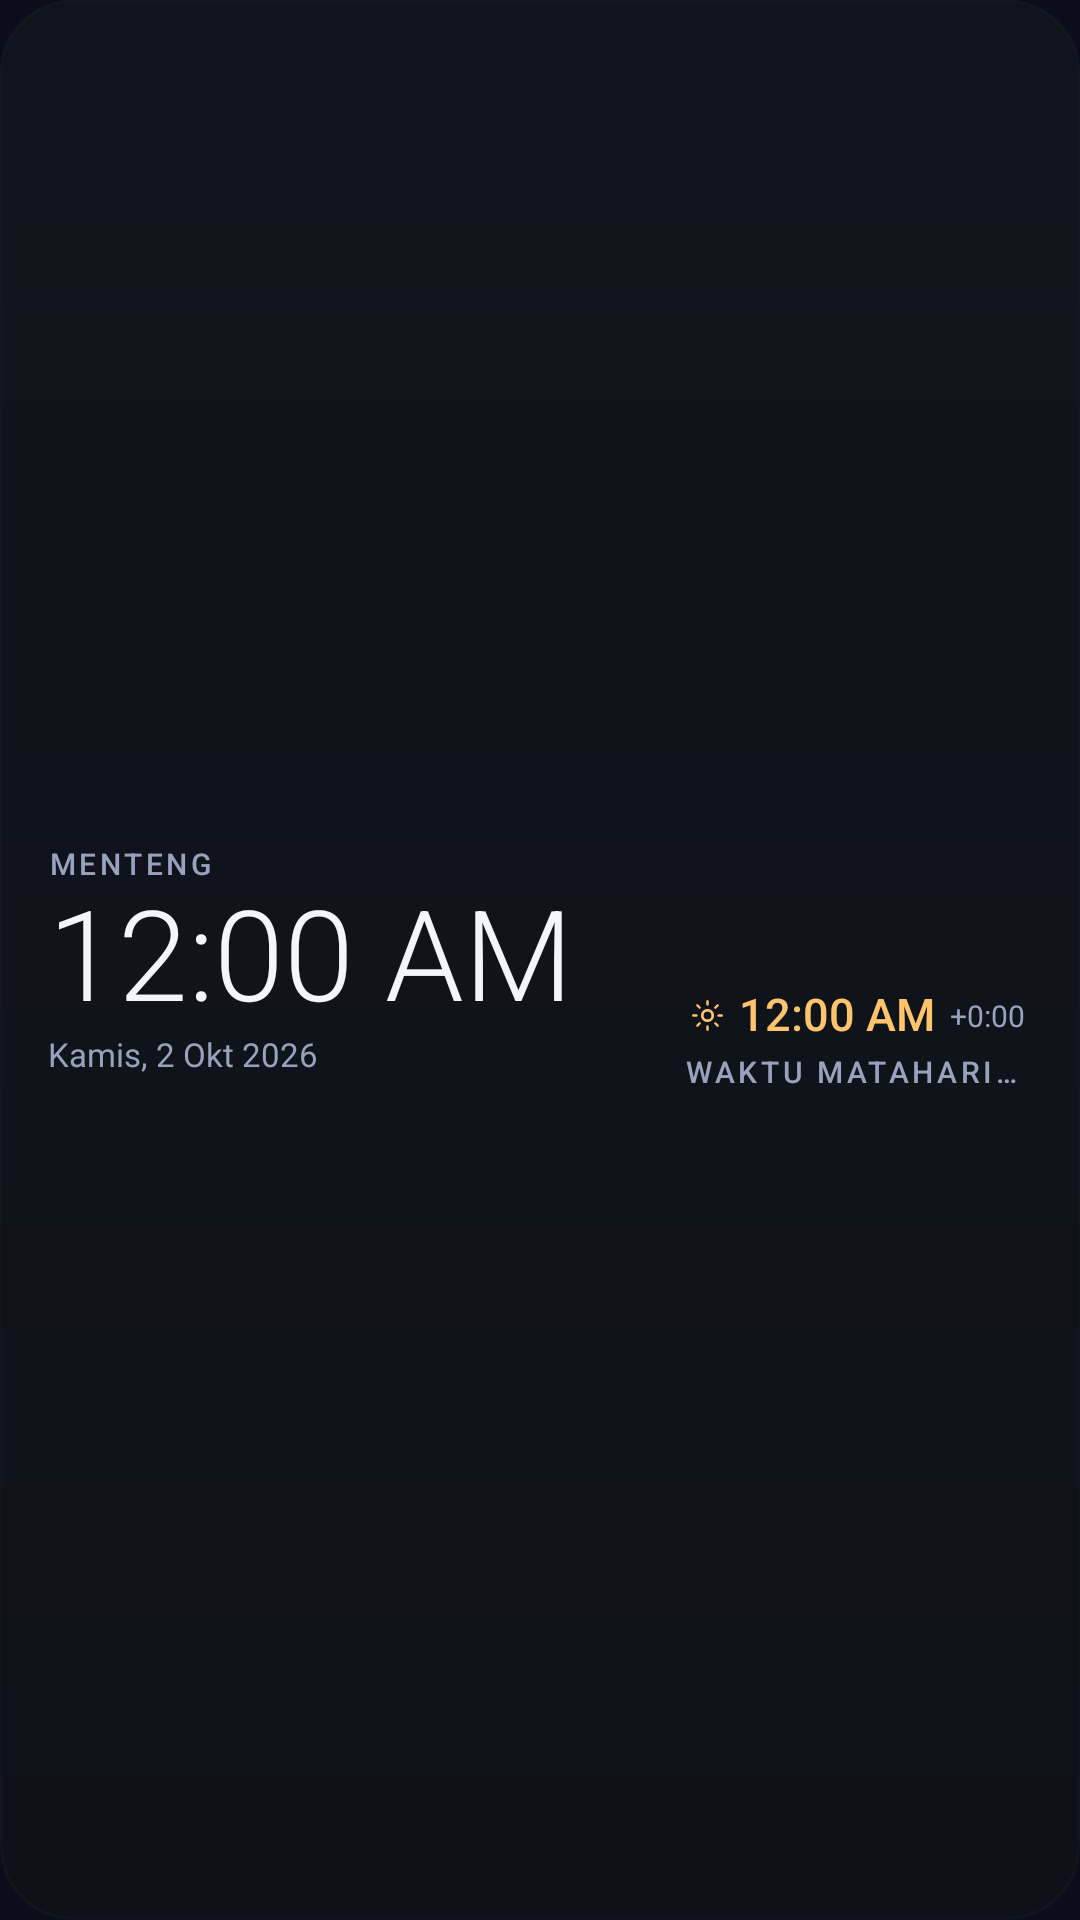

Screen size 1080w x 1920h. Icon name, then its center in pixels as point (x, y):
sun: point (707, 1015)
